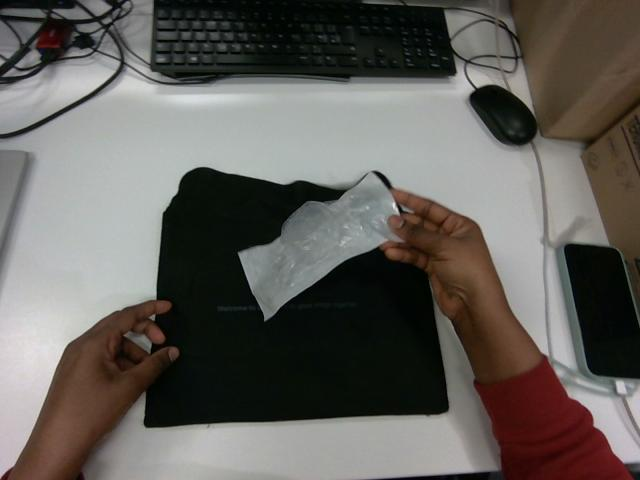gallipot: (239, 172, 399, 320)
